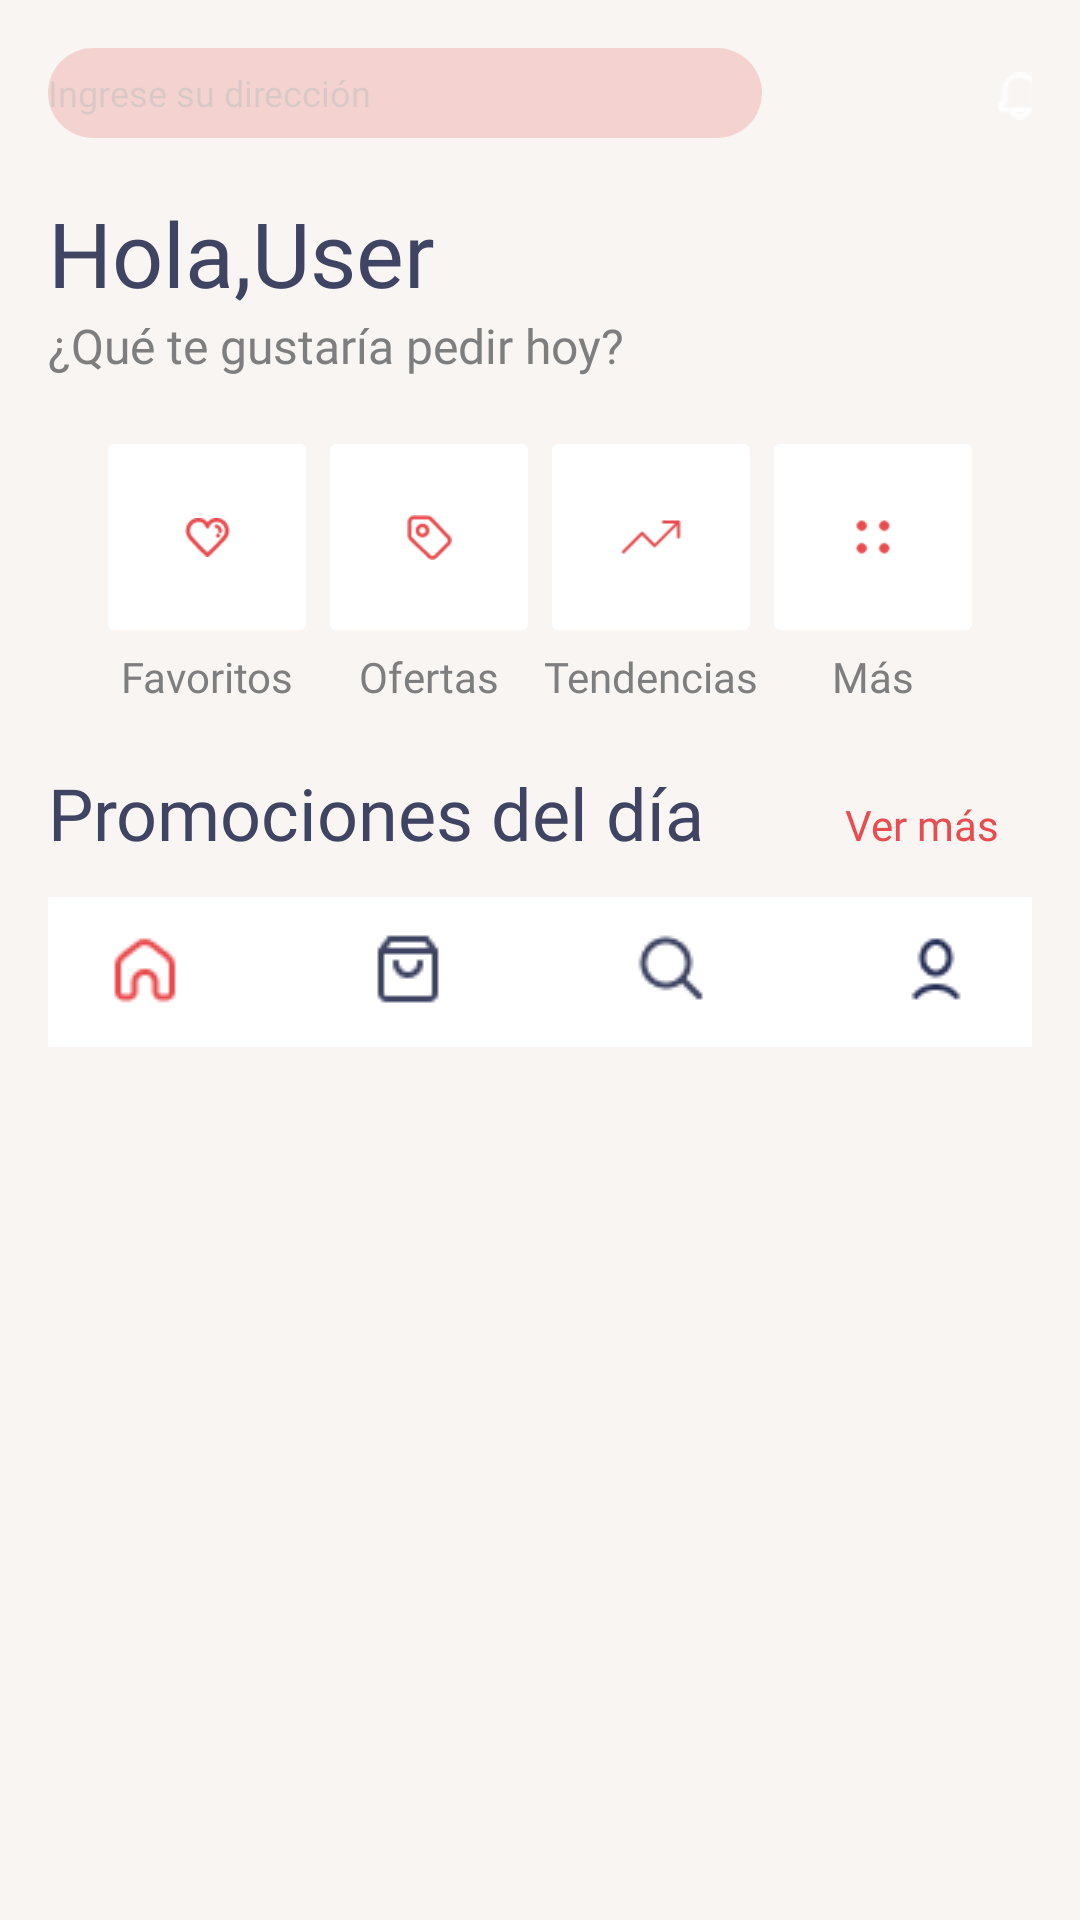

Where icons sit on this 1080px×1920px app screen, as (x1,y1,x2,y2):
search: (638,935,703,1000)
shopping bag: (377,935,439,1003)
